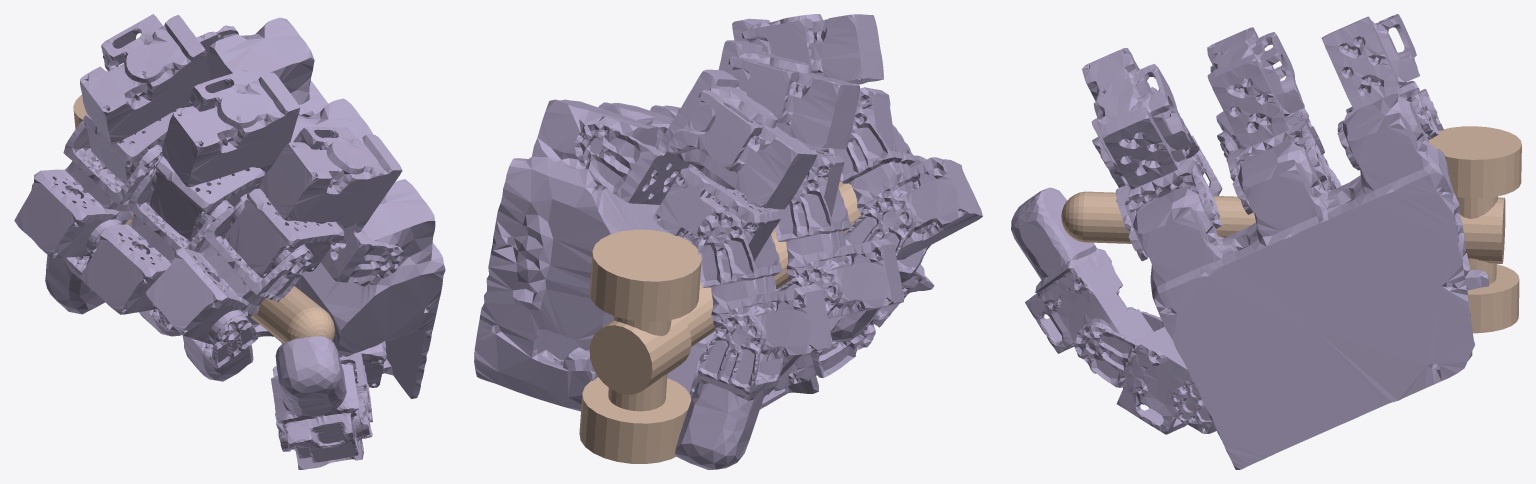
File: case-06-final.glb
3 renders of one model, left to right at view 1: azimuth 30°, elevation 25°; view 2: azimuth 150°, elevation 25°; view 3: azimuth 270°, elevation 25°, orthographic. The views are drawn at different scales.
Parts seen in each view (by area): view 1: world, surface.obj; view 2: world, surface.obj; view 3: world, surface.obj.
Part boxes in pixels (x1,y1,x2,y2): world: (14, 14, 445, 469); surface.obj: (73, 95, 334, 342); world: (474, 14, 982, 469); surface.obj: (579, 180, 861, 463); world: (1011, 14, 1489, 469); surface.obj: (1061, 126, 1521, 333).
Size of the model in its own units: 0.1362 by 0.1645 by 0.199.
